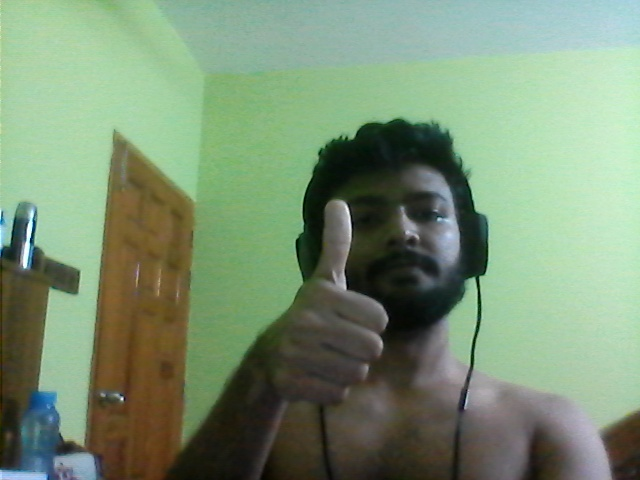Yes: (260, 198, 389, 403)
